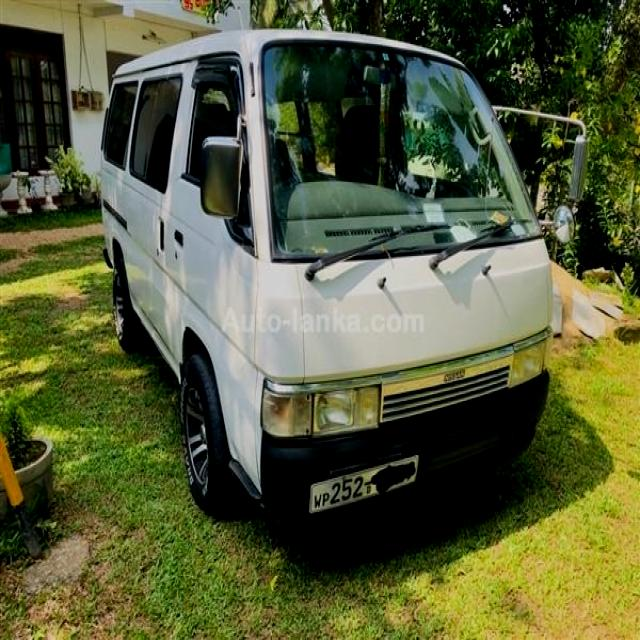Van: (50, 33, 577, 539)
